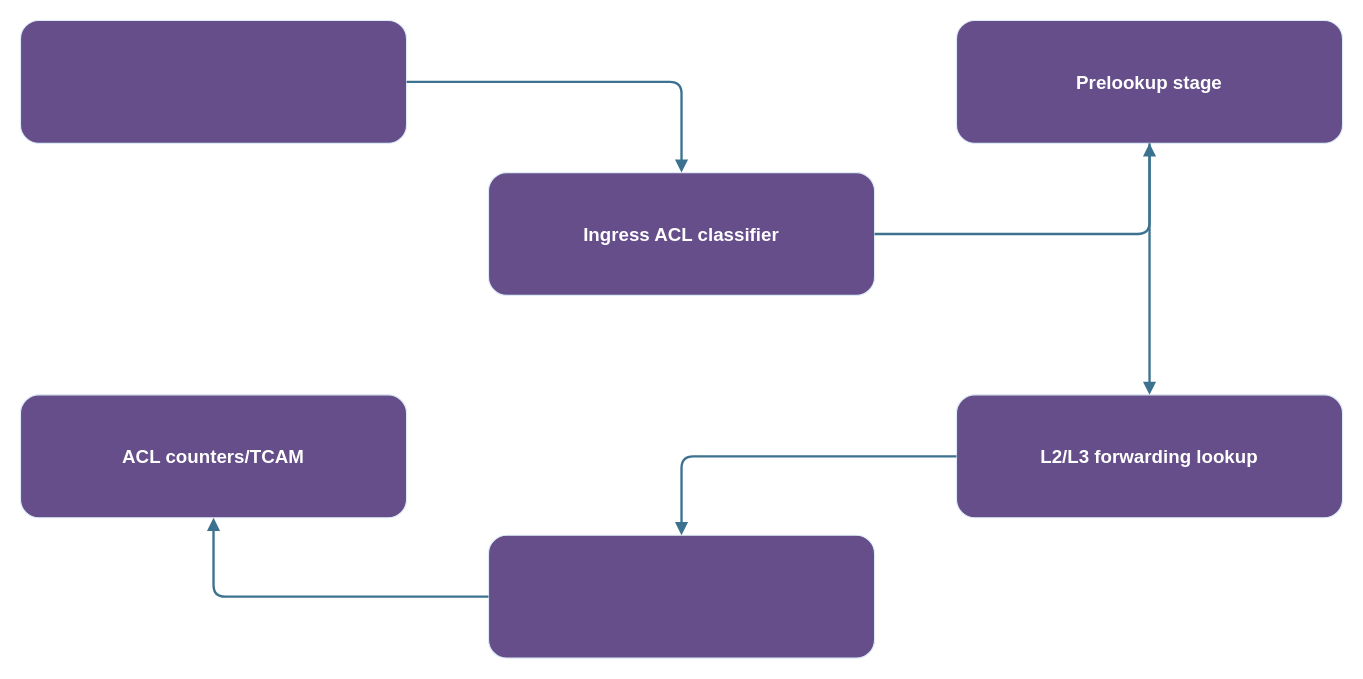
Image size: 1363x679. Some labels were removed from this diagram. Each missing label, with the centre of its shape:
Egress ACL action: point (681, 596)
Ingress packet: point (213, 81)
